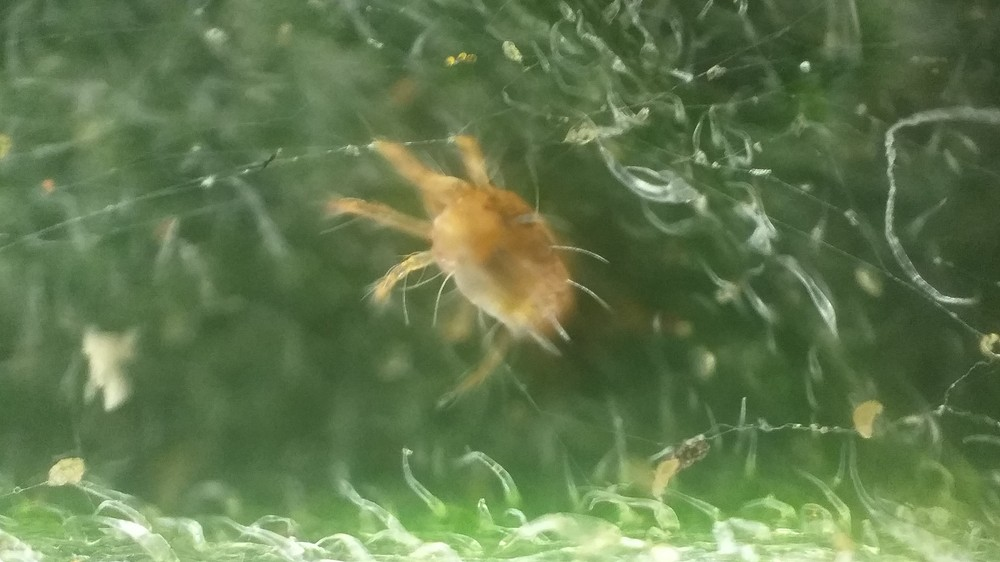Aracnido Rojo: (332, 125, 640, 413)
